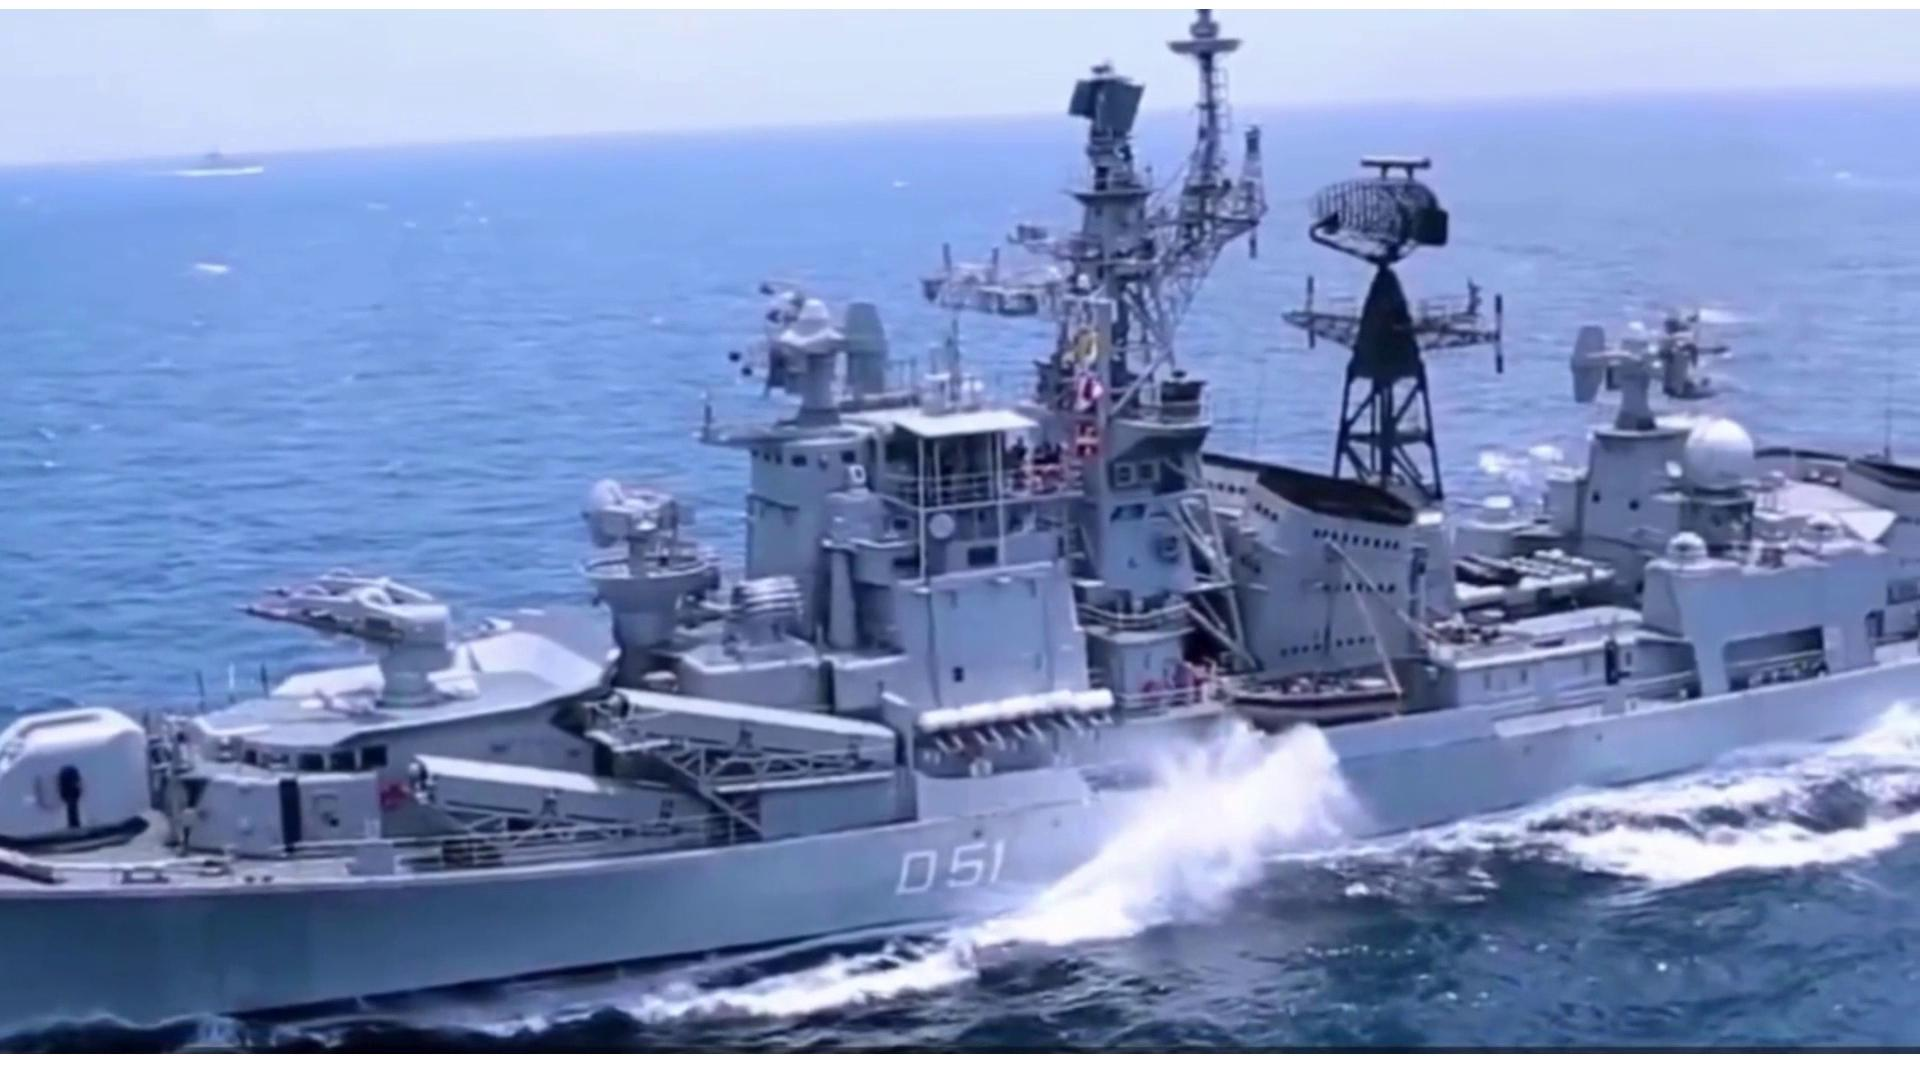OCR: (857, 823, 1007, 910)
